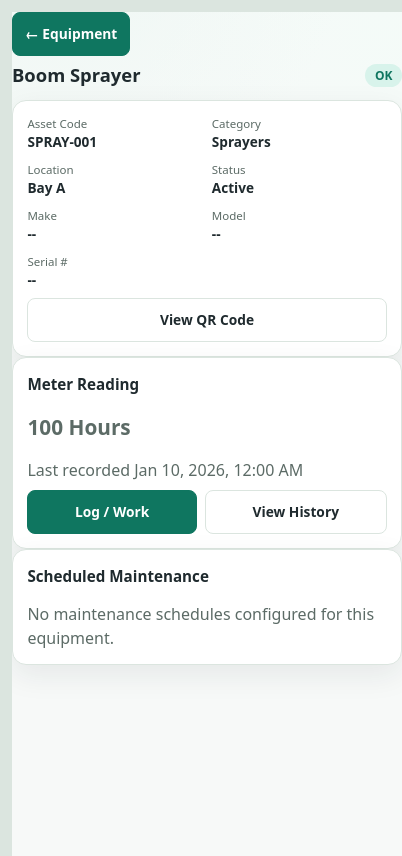
Test case: MobileMaintenanceEquipmentDetailPage — Log / Work and unified history › a failed history load shows a clear error, not a blank/broken panel
Click the button "View History" at [296, 512], box [205,490,387,534]
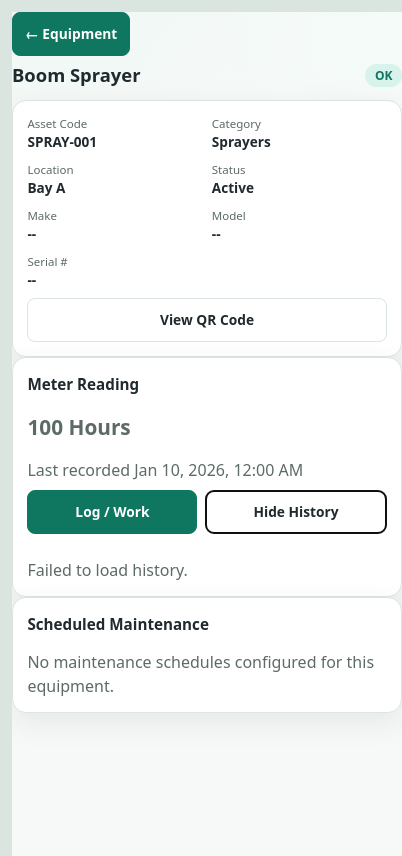
expect the text "Failed to load history." is shown: met, box [27,558,188,580]
